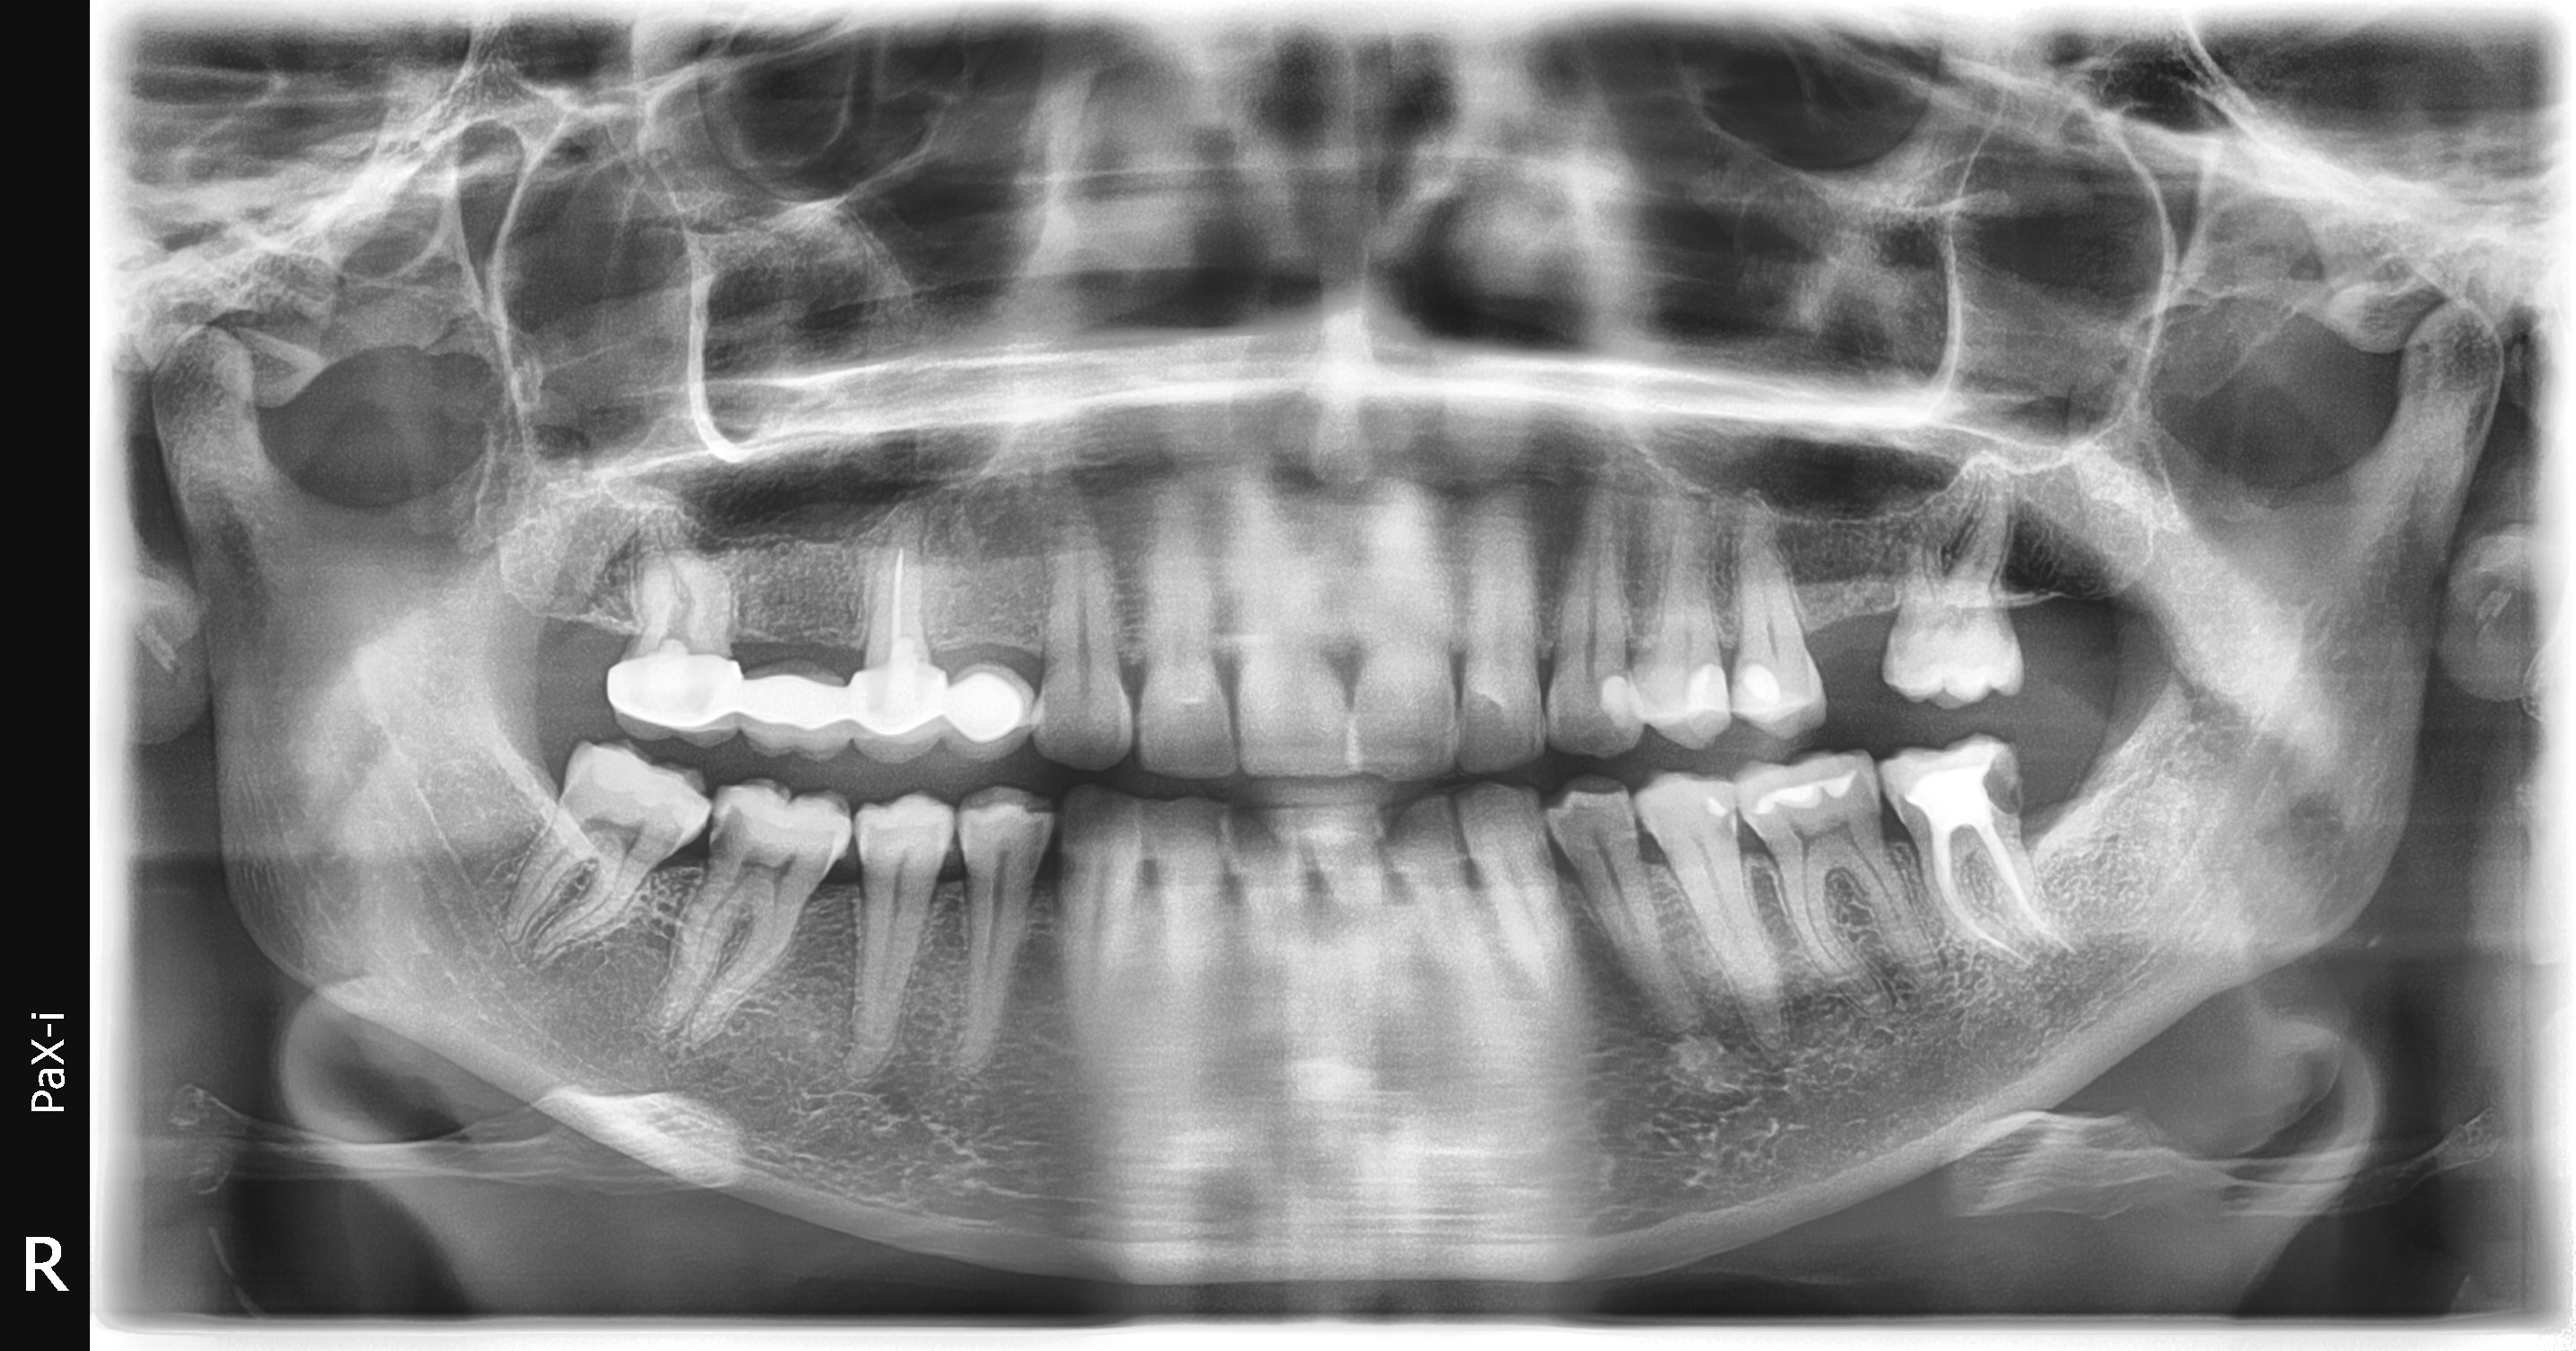CAR: (693, 789, 770, 876), (1981, 729, 2039, 823), (1695, 797, 1743, 855)
END: (1905, 823, 2116, 983), (864, 509, 939, 658)
OBT: (1879, 741, 2007, 826), (1745, 763, 1862, 825), (1665, 656, 1738, 753), (1583, 656, 1644, 746), (1734, 644, 1779, 714)
PRR: (605, 637, 1046, 777)
